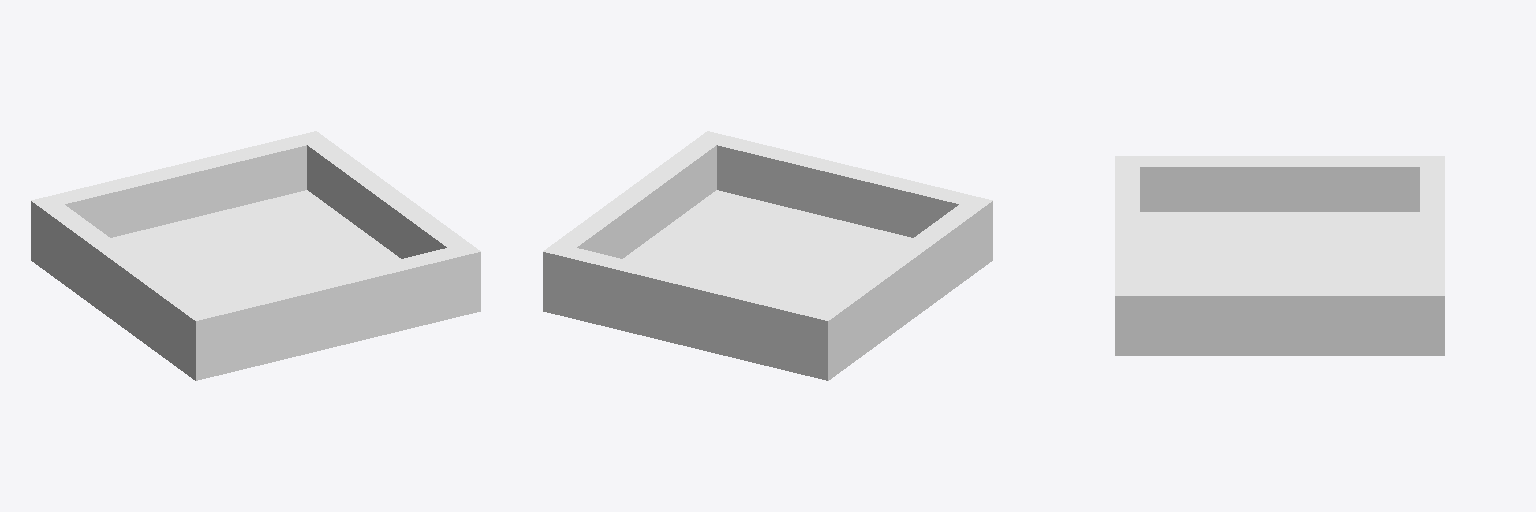
The model's file is Road_straight-9.obj.
3 views of the same model, side by side, from view 1: azimuth 30°, elevation 25°; view 2: azimuth 150°, elevation 25°; view 3: azimuth 270°, elevation 25° (orthographic).
Parts seen in each view (by area): view 1: Road_straight-9; view 2: Road_straight-9; view 3: Road_straight-9.
Part boxes in pixels (bbox=[...]): Road_straight-9: bbox=[31, 131, 480, 380]; Road_straight-9: bbox=[543, 131, 992, 380]; Road_straight-9: bbox=[1115, 156, 1444, 355].
Size of the model in its own units: 40 by 8 by 40.